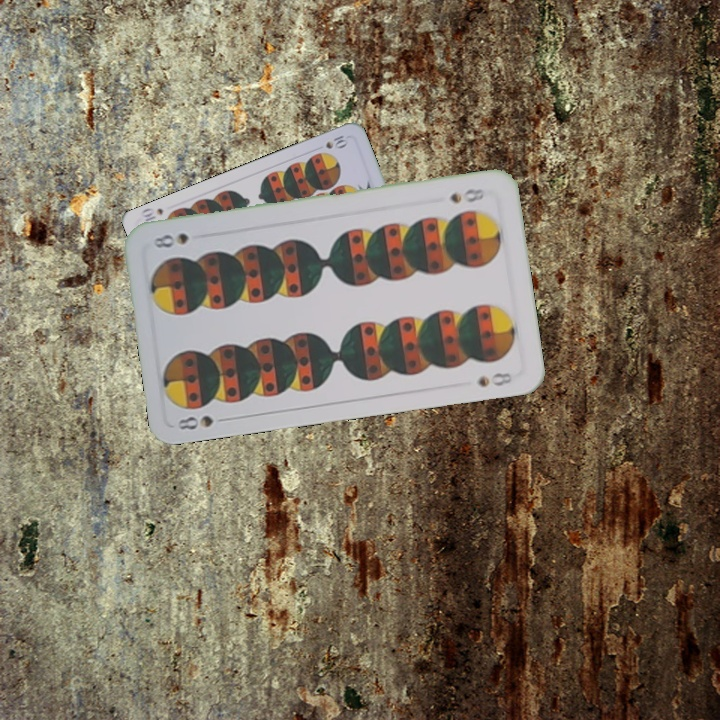S10: (321, 131, 350, 152)
S8: (174, 411, 233, 432), (446, 184, 489, 206)
